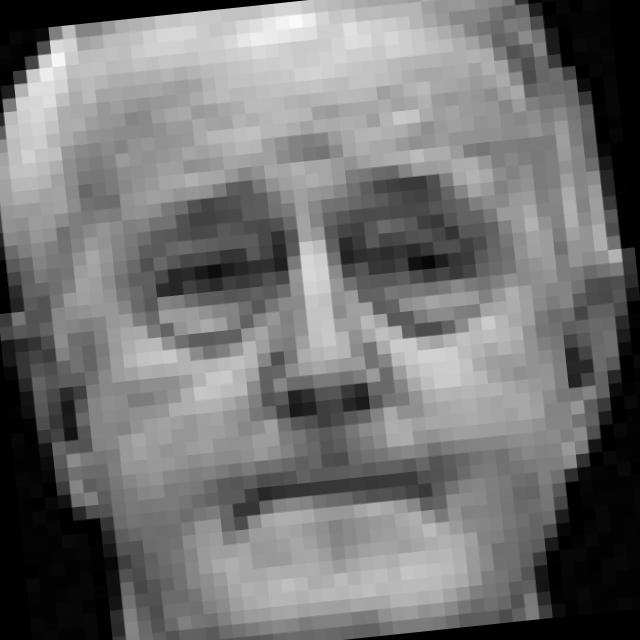sad: (106, 98, 552, 581)
